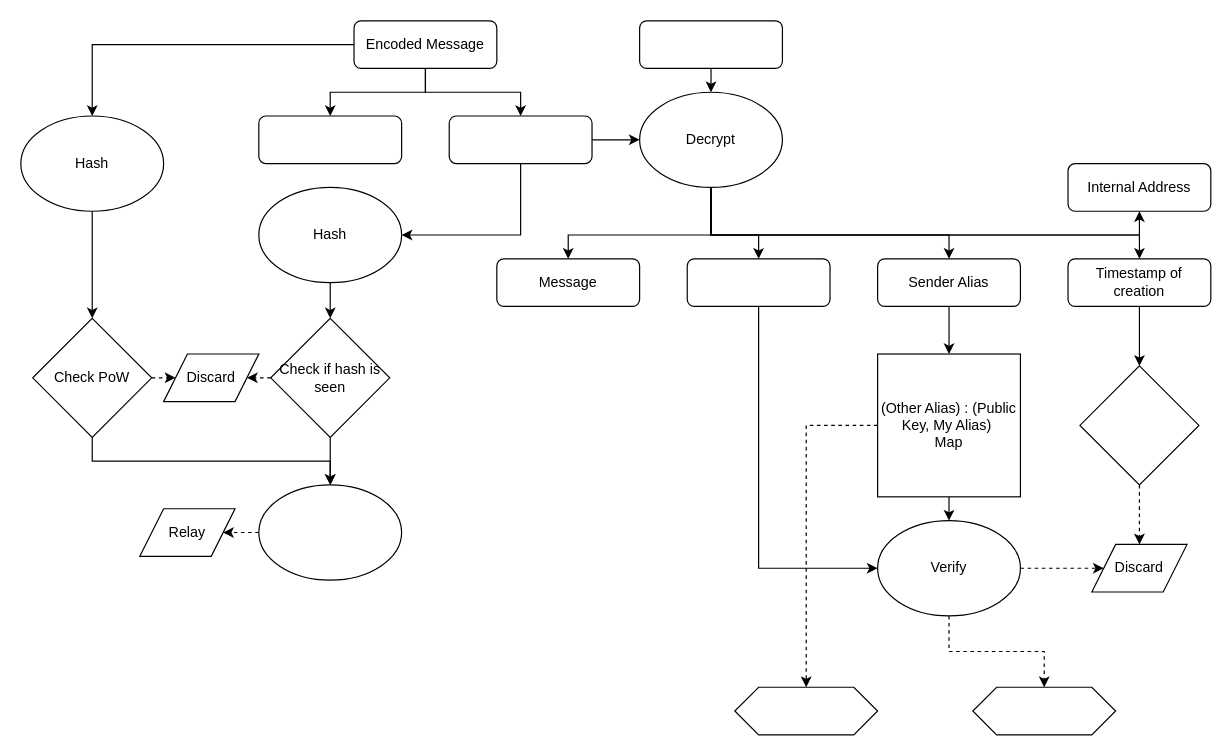
This 1232x756 diagram has some shape labels left out. The centre of each missing label's shape, as x and y in pixels:
"Add hash to record" belongs at (330,532).
"Anonymous" belongs at (806,710).
"Check message age" belongs at (1139,425).
"Encrypted blob" belongs at (520,139).
"Nonce" belongs at (330,139).
"Receiver's Private Key" belongs at (710,44).
"Signature" belongs at (758,282).
"Verified" belongs at (1044,710).
